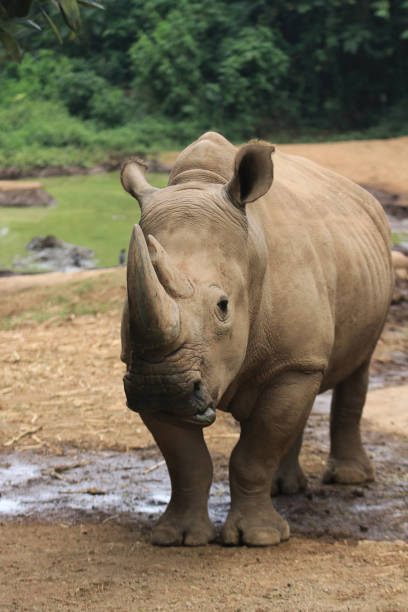rhino: (70, 124, 304, 460)
